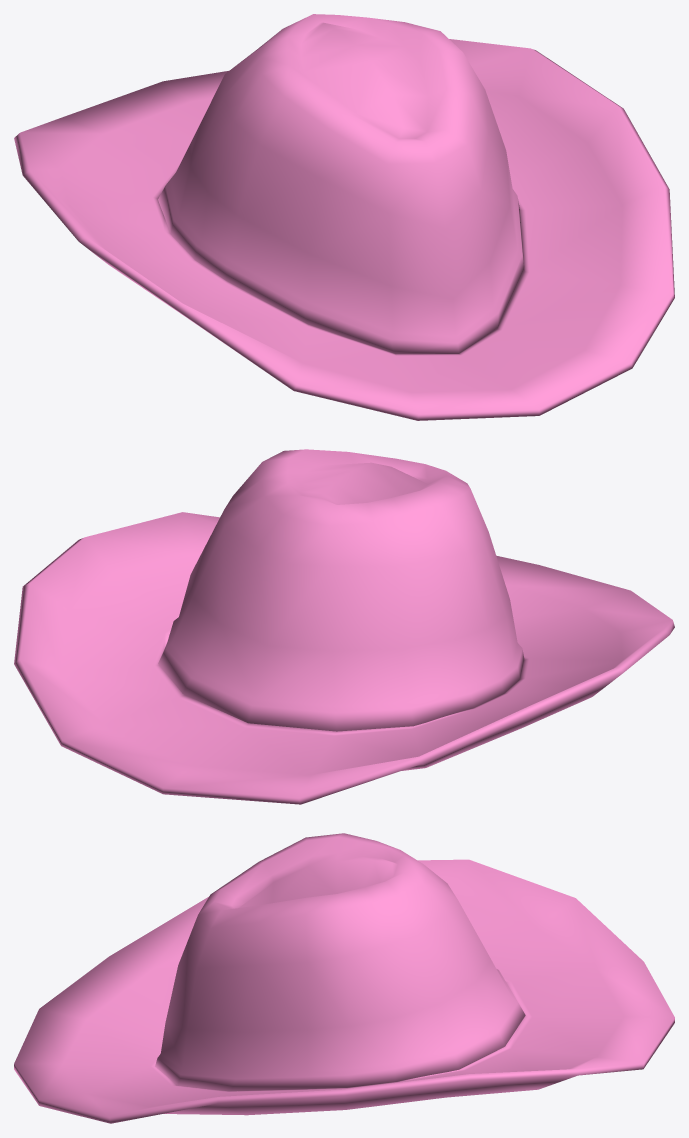
The model's file is ToyObject_063.fbx.
3 renders of one model, top to bottom at view 1: azimuth 30°, elevation 25°; view 2: azimuth 150°, elevation 25°; view 3: azimuth 270°, elevation 25°, orthographic. The views are drawn at different scales.
Parts seen in each view (by area): view 1: 1.030; view 2: 1.030; view 3: 1.030.
Part boxes in pixels (left/top/right/bottom): 1.030: left=14, top=14, right=674, bottom=420; 1.030: left=14, top=449, right=674, bottom=804; 1.030: left=14, top=833, right=674, bottom=1123.
Size of the model in its own units: 0.1829 by 0.0769 by 0.2188.
